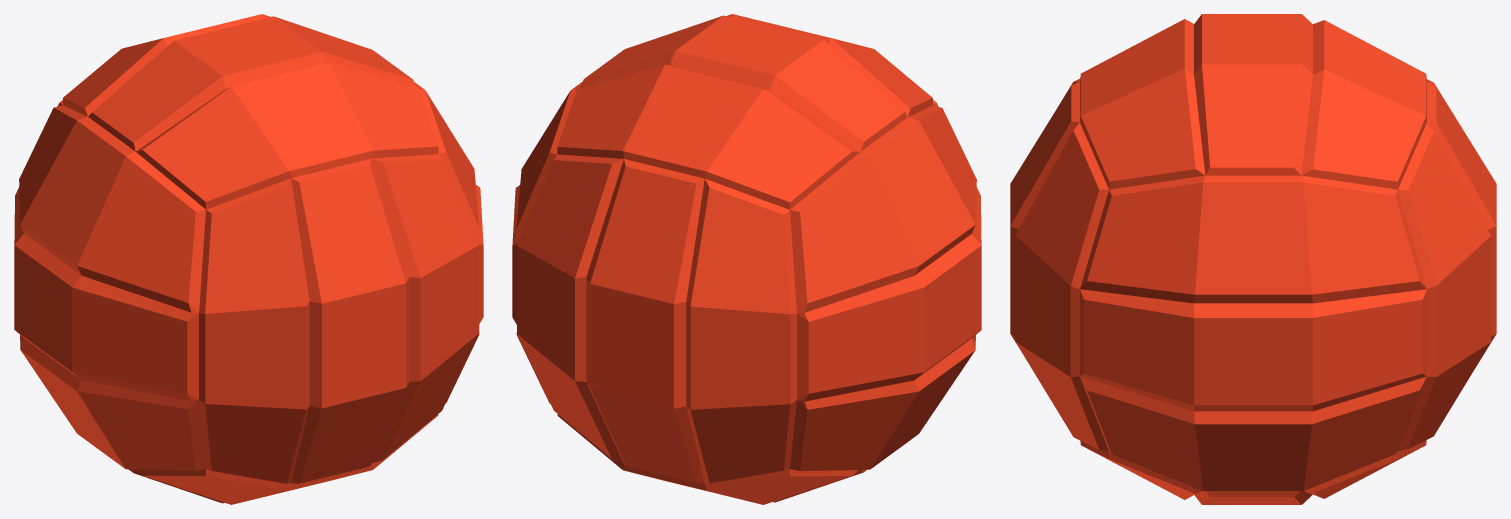
File: SM_Ball_Volleyball_City.fbx
3 views of the same model, side by side, from view 1: azimuth 30°, elevation 25°; view 2: azimuth 150°, elevation 25°; view 3: azimuth 270°, elevation 25° (orthographic). The views are drawn at different scales.
Visible parts, largest first — view 1: SM_Ball_Volleyball_City; view 2: SM_Ball_Volleyball_City; view 3: SM_Ball_Volleyball_City.
Part boxes in pixels (bbox=[...]): SM_Ball_Volleyball_City: bbox=[14, 14, 483, 504]; SM_Ball_Volleyball_City: bbox=[512, 14, 981, 504]; SM_Ball_Volleyball_City: bbox=[1010, 14, 1496, 504].
Size of the model in its own units: 0.2922 by 0.2922 by 0.2922.
